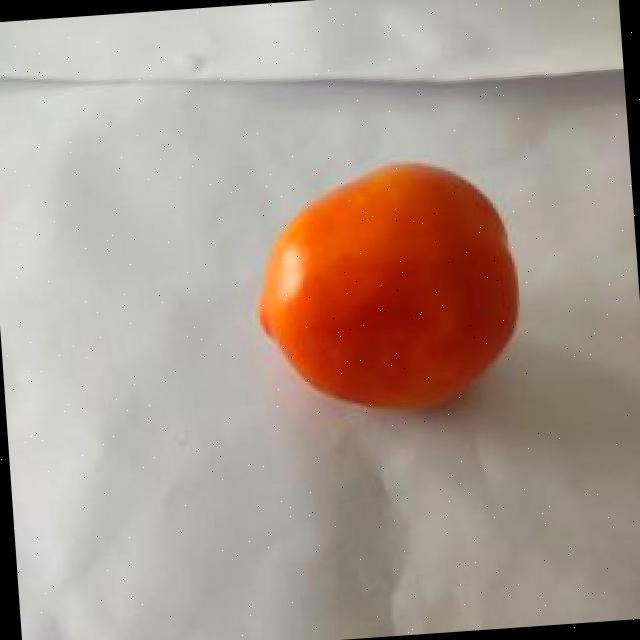tomato: (248, 154, 526, 418)
